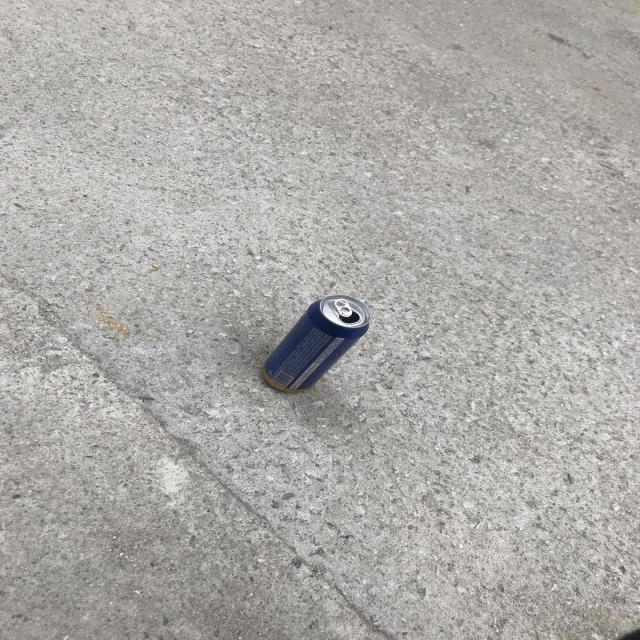can: (262, 295, 371, 393)
